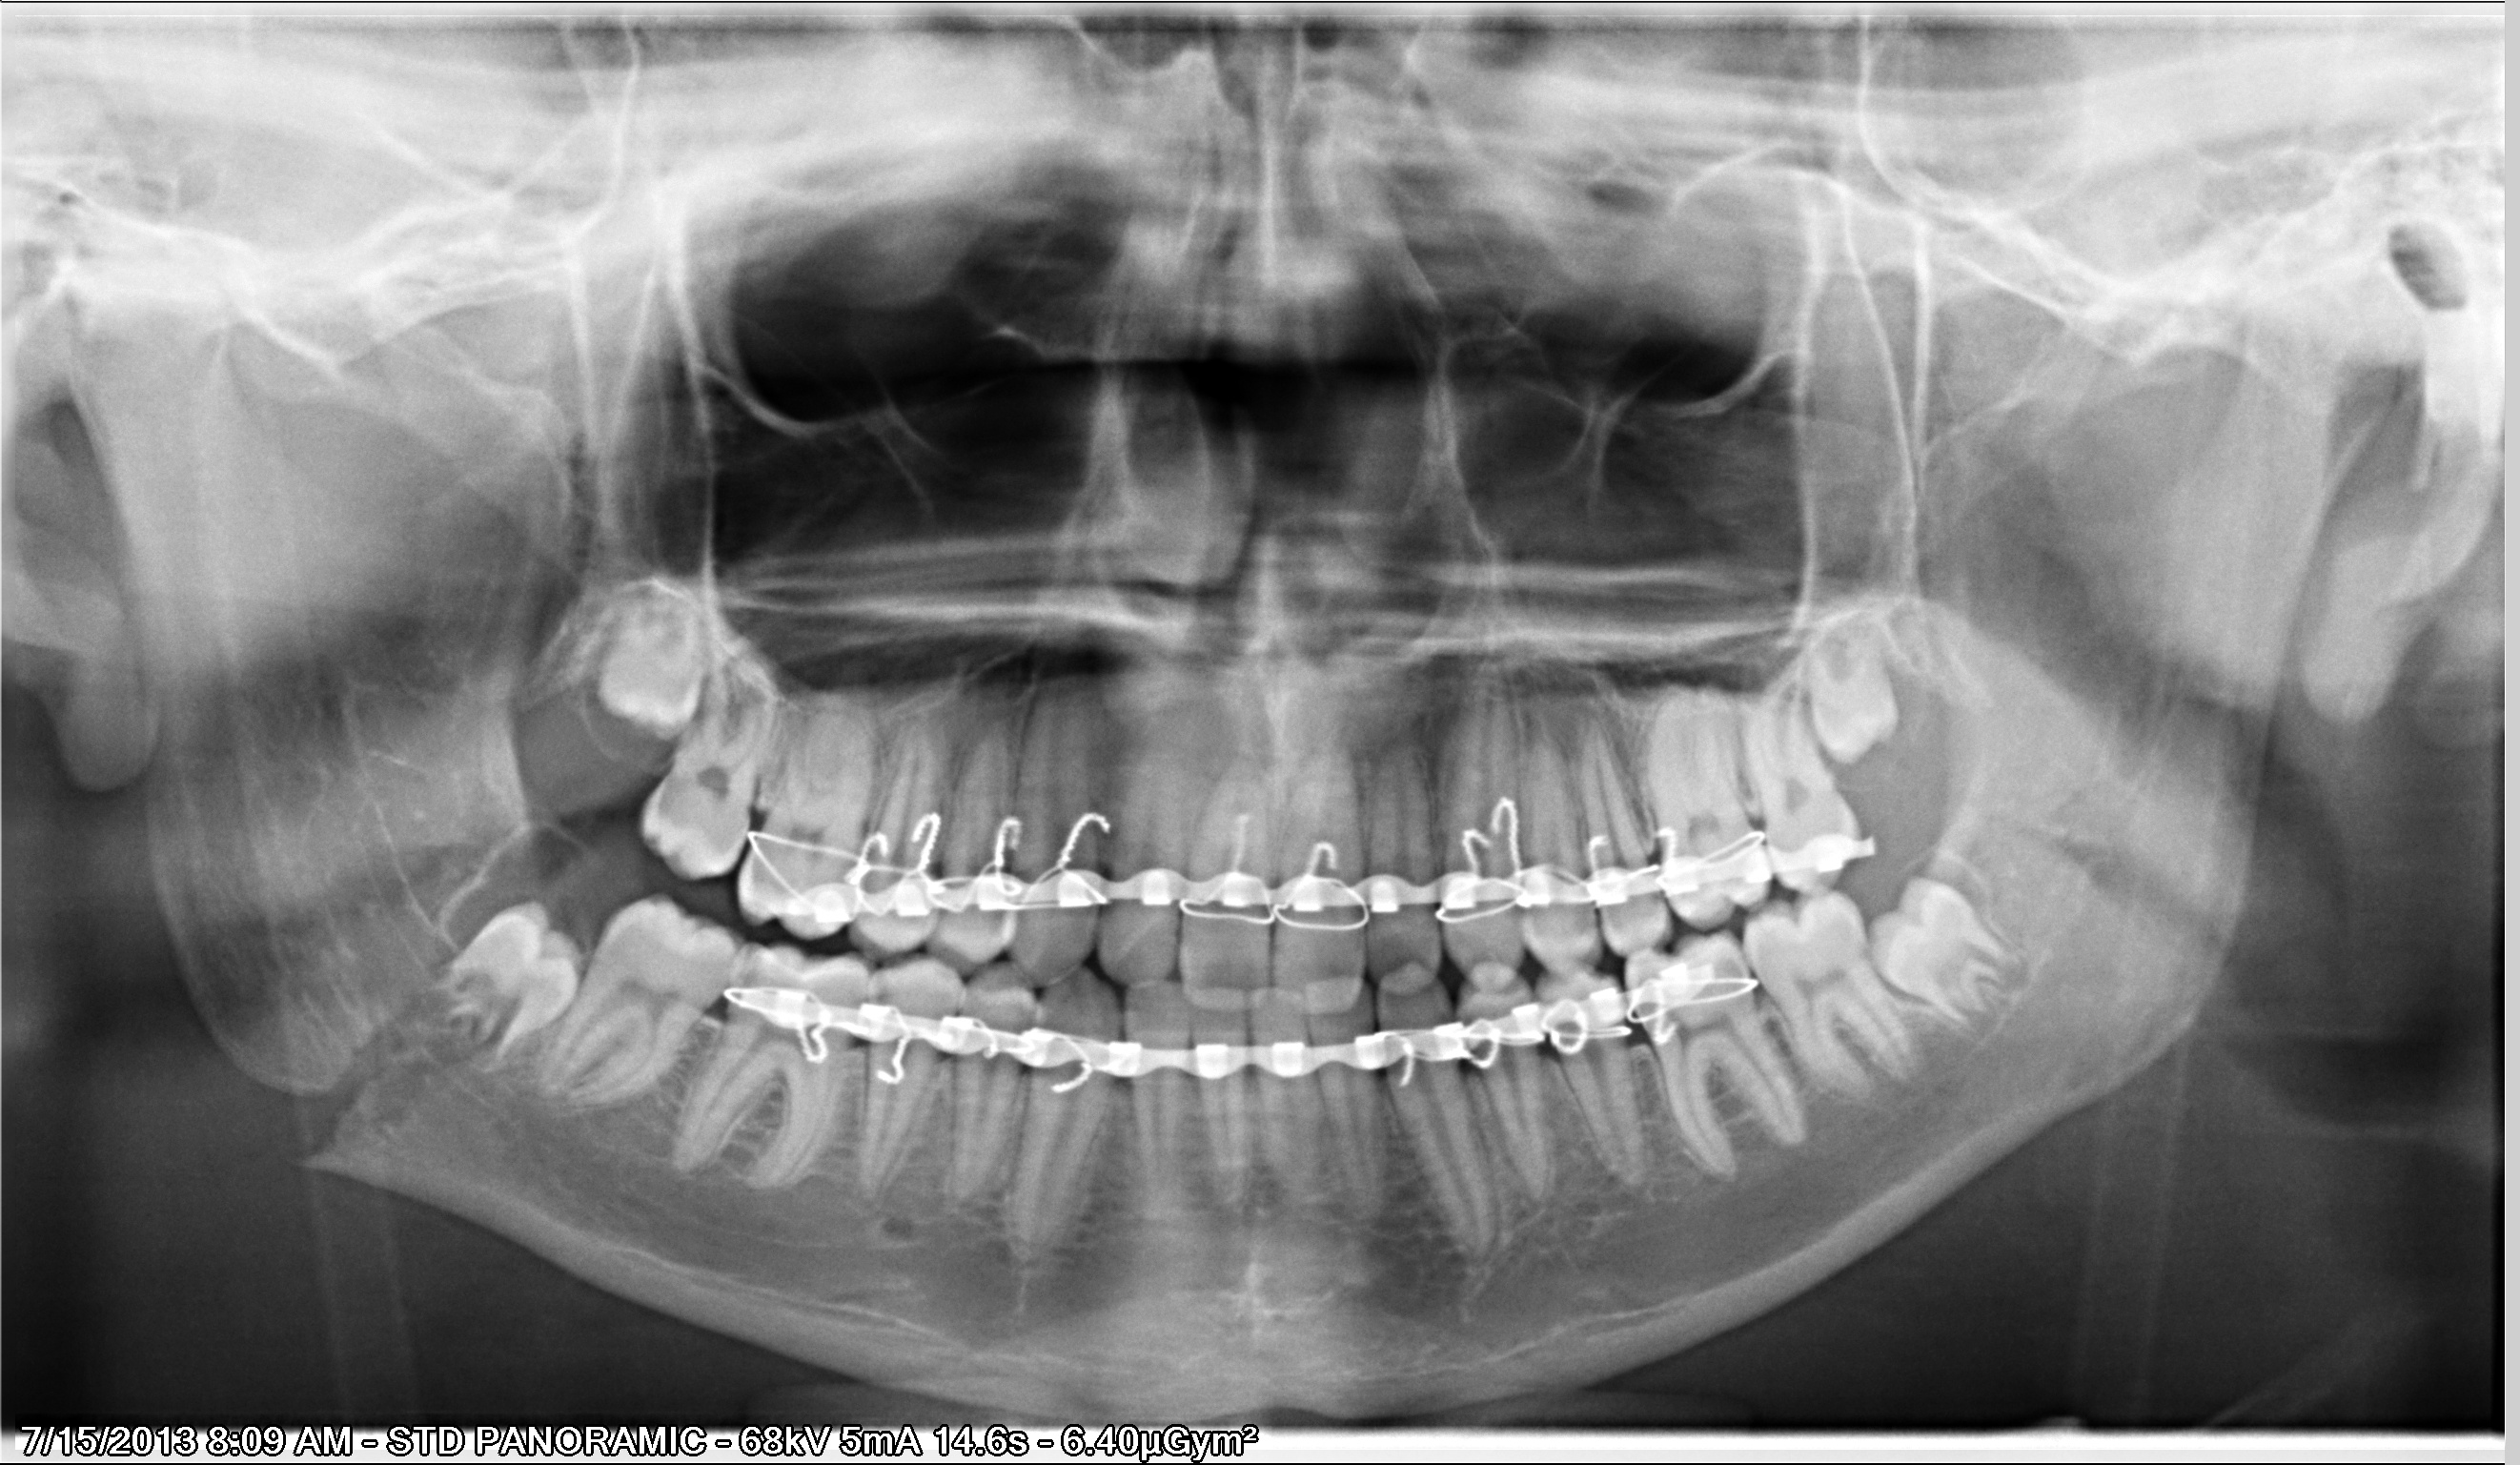IMT: (378, 891, 649, 1087), (1833, 858, 2044, 1057), (560, 553, 739, 769), (1767, 586, 1939, 794)
SRD: (725, 738, 1875, 975), (689, 935, 1781, 1116)
